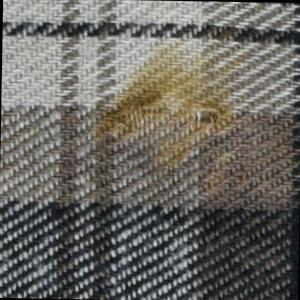Damage: (102, 86, 172, 146), (178, 110, 220, 129)
Oil Stain: (91, 39, 243, 169), (205, 148, 247, 199)
